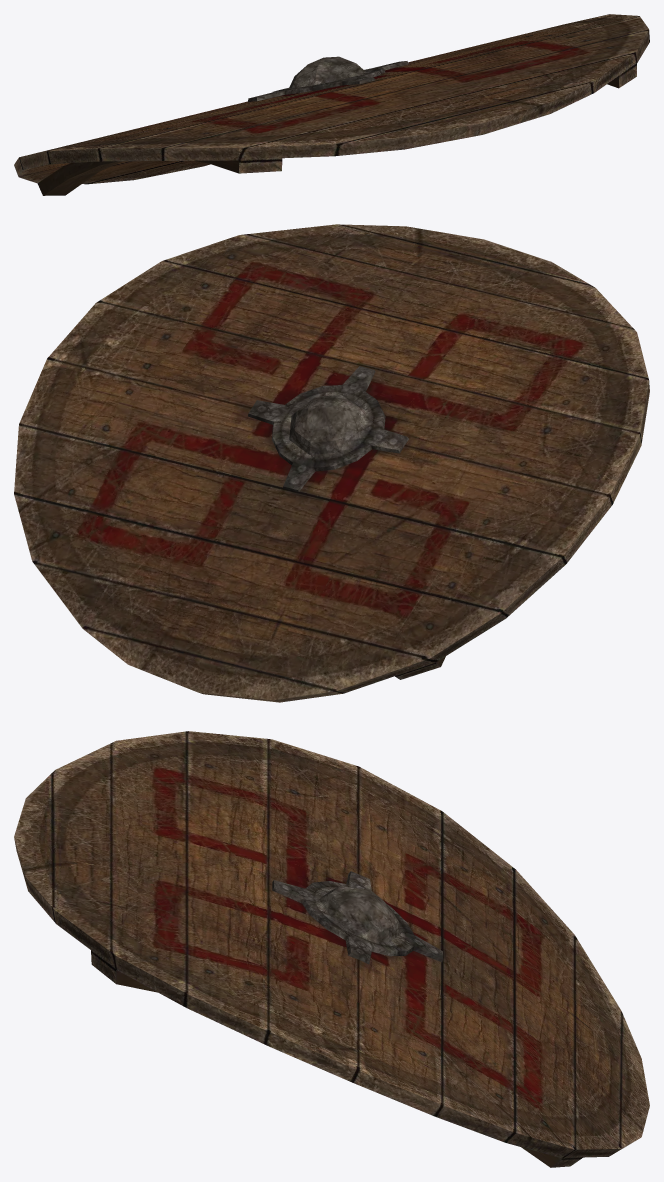
Rendered from ITSH_SHIELD_A_WOODEN_ROUND.glb.
The picture shows the model from 3 angles, top to bottom: view 1: azimuth 30°, elevation 25°; view 2: azimuth 150°, elevation 25°; view 3: azimuth 270°, elevation 25°; orthographic projection. The views are drawn at different scales.
Parts seen in each view (by area): view 1: ITSH_SHIELD_A_WOODEN_ROUND; view 2: ITSH_SHIELD_A_WOODEN_ROUND; view 3: ITSH_SHIELD_A_WOODEN_ROUND.
Boxes of the visible parts, x1,y1,x2,y2 form: ITSH_SHIELD_A_WOODEN_ROUND: [14, 14, 649, 195]; ITSH_SHIELD_A_WOODEN_ROUND: [14, 224, 649, 702]; ITSH_SHIELD_A_WOODEN_ROUND: [14, 731, 649, 1167].
Bounding box in the file's own units: 0.752 × 0.3181 × 0.6642.
1 material, 1 textured.
